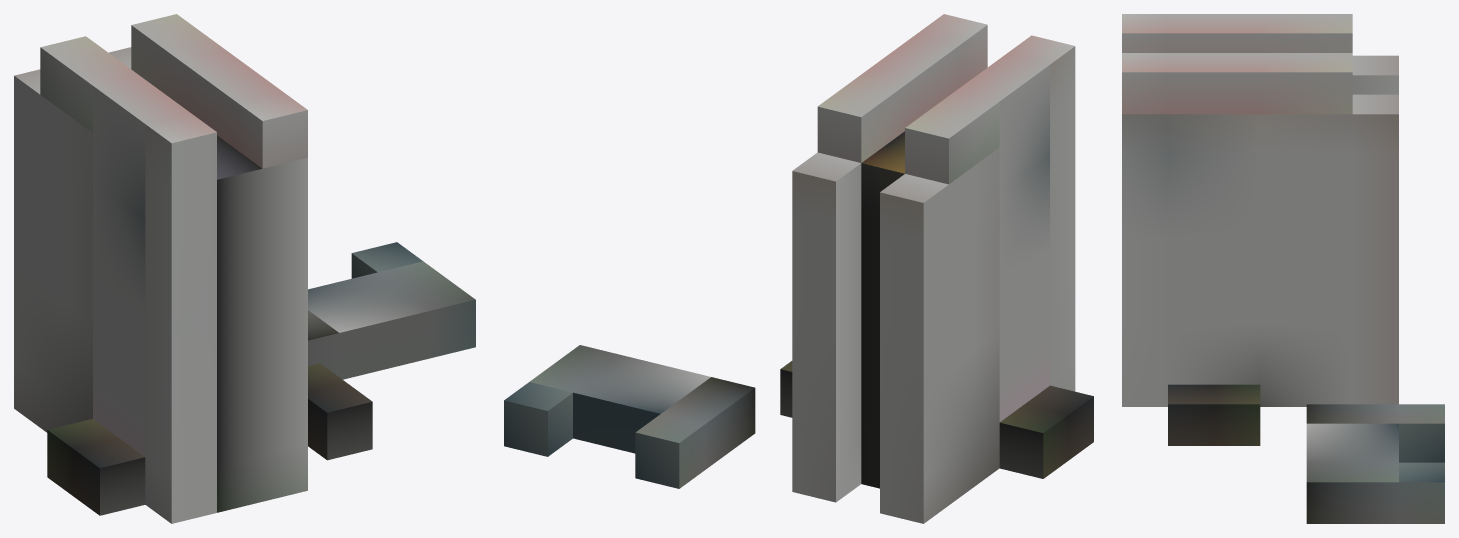
Rendered from GameConsole_00.obj.
3 views of the same model, side by side, from view 1: azimuth 30°, elevation 25°; view 2: azimuth 150°, elevation 25°; view 3: azimuth 270°, elevation 25° (orthographic). The views are drawn at different scales.
Parts seen in each view (by area): view 1: GameConsole_00; view 2: GameConsole_00; view 3: GameConsole_00.
Boxes of the visible parts, <box> form: GameConsole_00: <box>14,14,475,523</box>; GameConsole_00: <box>504,14,1093,523</box>; GameConsole_00: <box>1122,14,1444,523</box>.
Bounding box in the file's own units: 0.5 × 0.4 × 0.35.
